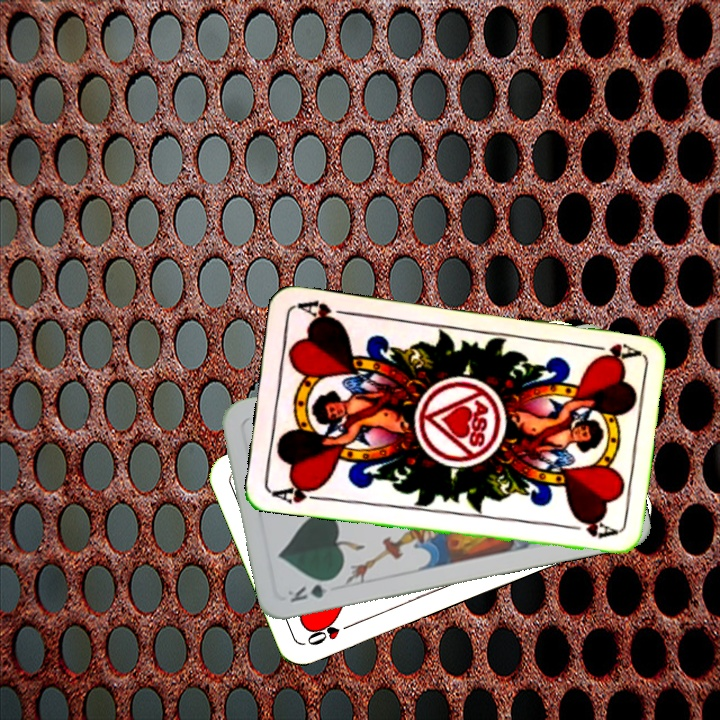GK: (283, 574, 339, 605)
HA: (269, 479, 328, 506), (581, 339, 640, 362)
HO: (303, 618, 359, 648)
